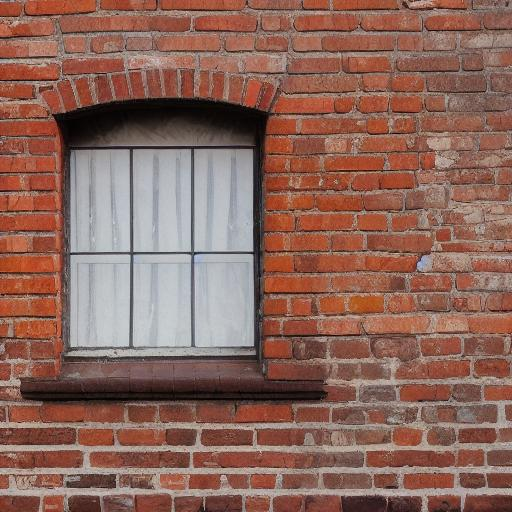Window: (21, 70, 328, 404)
